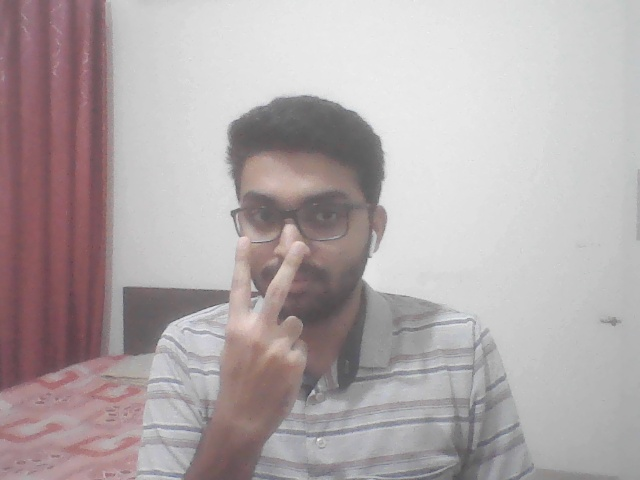see: (206, 224, 337, 457)
